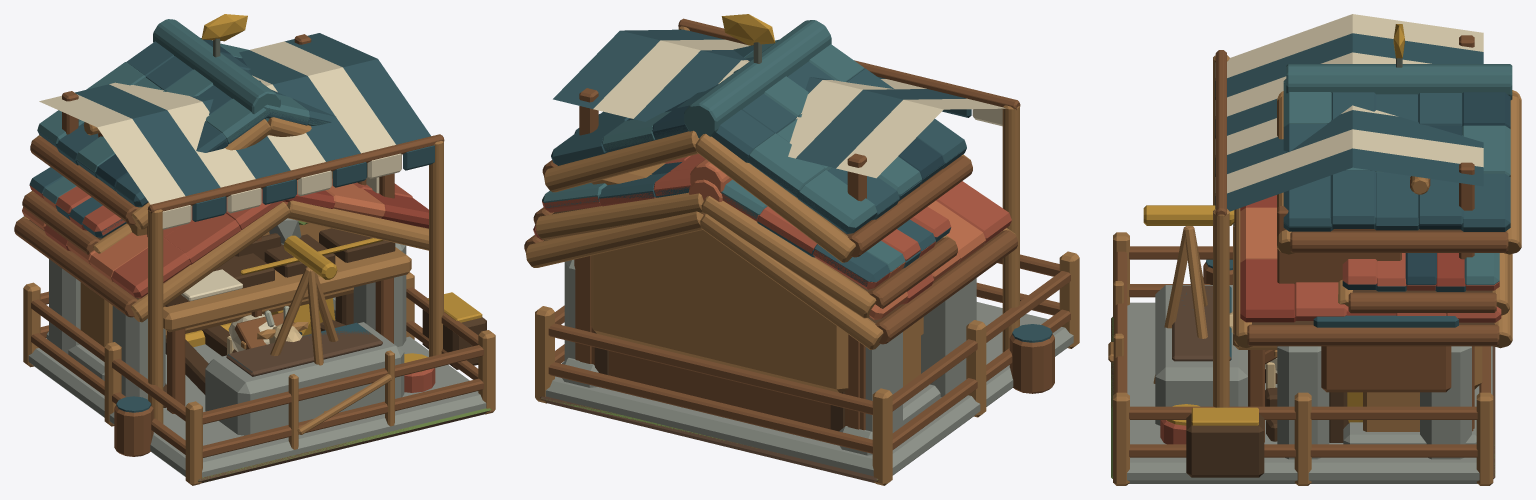
The model's file is husbandry-kit.glb.
3 renders of one model, left to right at view 1: azimuth 30°, elevation 25°; view 2: azimuth 150°, elevation 25°; view 3: azimuth 270°, elevation 25°, orthographic. The views are drawn at different scales.
Parts seen in each view (by area): view 1: assay_painted_mesh, henhouse_painted_mesh, discovery_croft_restored_painted_mesh, pasture_painted_mesh, discovery_croft_painted_mesh, discovery_survey_painted_mesh, henhouse_upgrade_painted_mesh, pasture_upgrade_painted_mesh, goat_head_painted_mesh, assay_upgrade_painted_mesh; view 2: henhouse_painted_mesh, assay_painted_mesh, pasture_painted_mesh, discovery_croft_restored_painted_mesh, henhouse_upgrade_painted_mesh, pasture_upgrade_painted_mesh, discovery_croft_painted_mesh; view 3: assay_painted_mesh, henhouse_painted_mesh, pasture_painted_mesh, henhouse_upgrade_painted_mesh, discovery_croft_restored_painted_mesh, discovery_croft_painted_mesh, pasture_upgrade_painted_mesh, assay_upgrade_painted_mesh, discovery_survey_painted_mesh.
Boxes of the visible parts, x1,y1,x2,y2 form: assay_painted_mesh: [28, 33, 486, 477]; henhouse_painted_mesh: [23, 19, 491, 485]; discovery_croft_restored_painted_mesh: [14, 178, 428, 386]; pasture_painted_mesh: [22, 185, 495, 485]; discovery_croft_painted_mesh: [49, 243, 406, 435]; discovery_survey_painted_mesh: [83, 122, 408, 413]; henhouse_upgrade_painted_mesh: [37, 14, 335, 204]; pasture_upgrade_painted_mesh: [29, 167, 335, 380]; goat_head_painted_mesh: [257, 306, 308, 343]; assay_upgrade_painted_mesh: [366, 163, 394, 198]; henhouse_painted_mesh: [535, 20, 1079, 485]; assay_painted_mesh: [545, 18, 1073, 476]; pasture_painted_mesh: [533, 153, 1079, 483]; discovery_croft_restored_painted_mesh: [524, 179, 1017, 397]; henhouse_upgrade_painted_mesh: [551, 14, 966, 230]; pasture_upgrade_painted_mesh: [542, 162, 951, 455]; discovery_croft_painted_mesh: [564, 260, 976, 432]; assay_painted_mesh: [1127, 14, 1492, 483]; henhouse_painted_mesh: [1108, 64, 1521, 484]; pasture_painted_mesh: [1108, 232, 1509, 485]; henhouse_upgrade_painted_mesh: [1283, 24, 1510, 392]; discovery_croft_restored_painted_mesh: [1165, 195, 1512, 437]; discovery_croft_painted_mesh: [1155, 285, 1471, 459]; pasture_upgrade_painted_mesh: [1342, 253, 1499, 444]; assay_upgrade_painted_mesh: [1277, 206, 1401, 283]; discovery_survey_painted_mesh: [1249, 176, 1430, 432].
Size of the model in its own units: 1.77 by 1.63 by 1.59.
